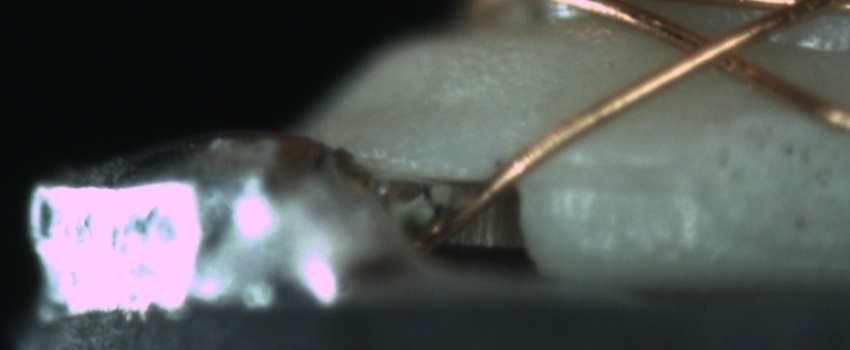CL: (661, 16, 765, 82)
DL: (542, 139, 678, 203)
